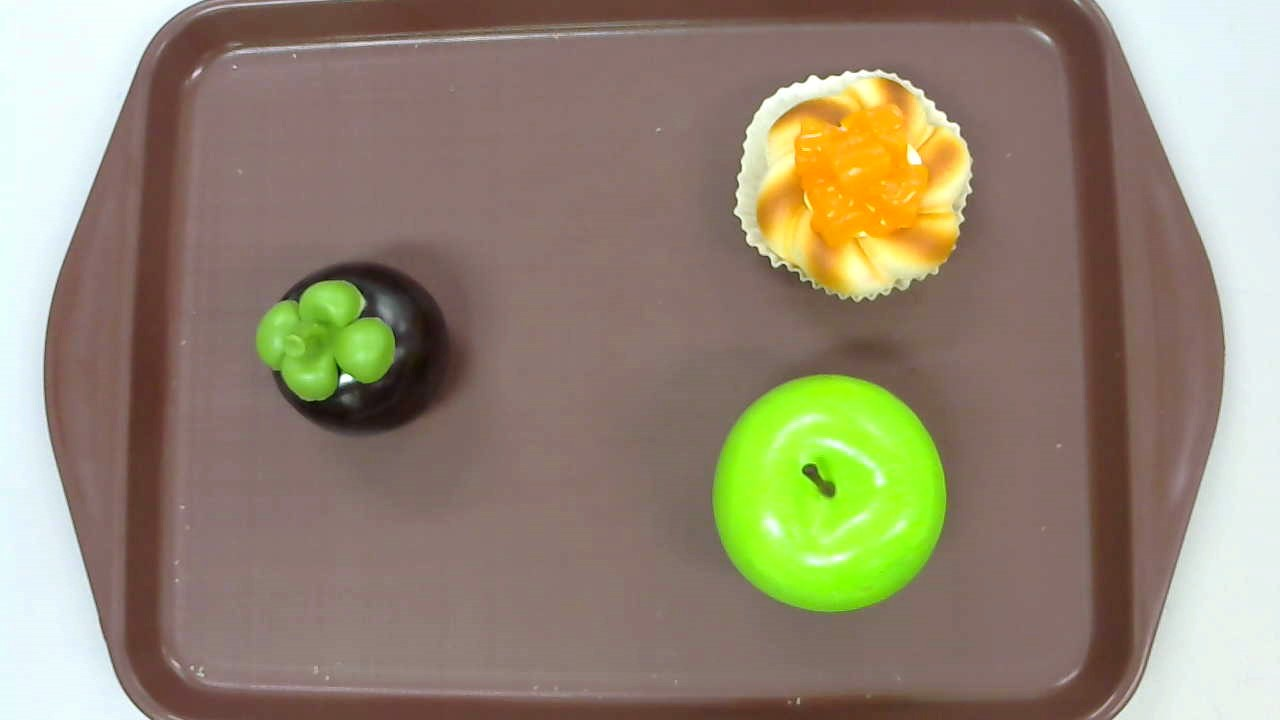green apple: (711, 373, 947, 613)
mango tart: (733, 68, 974, 304)
mangosteen: (256, 261, 448, 437)
